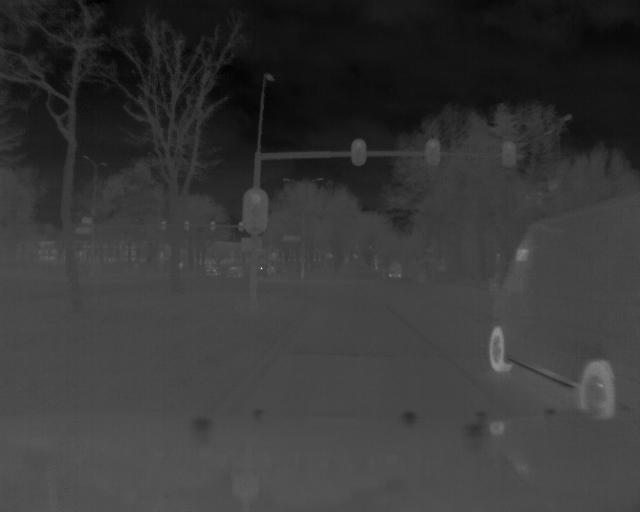car: (488, 198, 640, 404)
